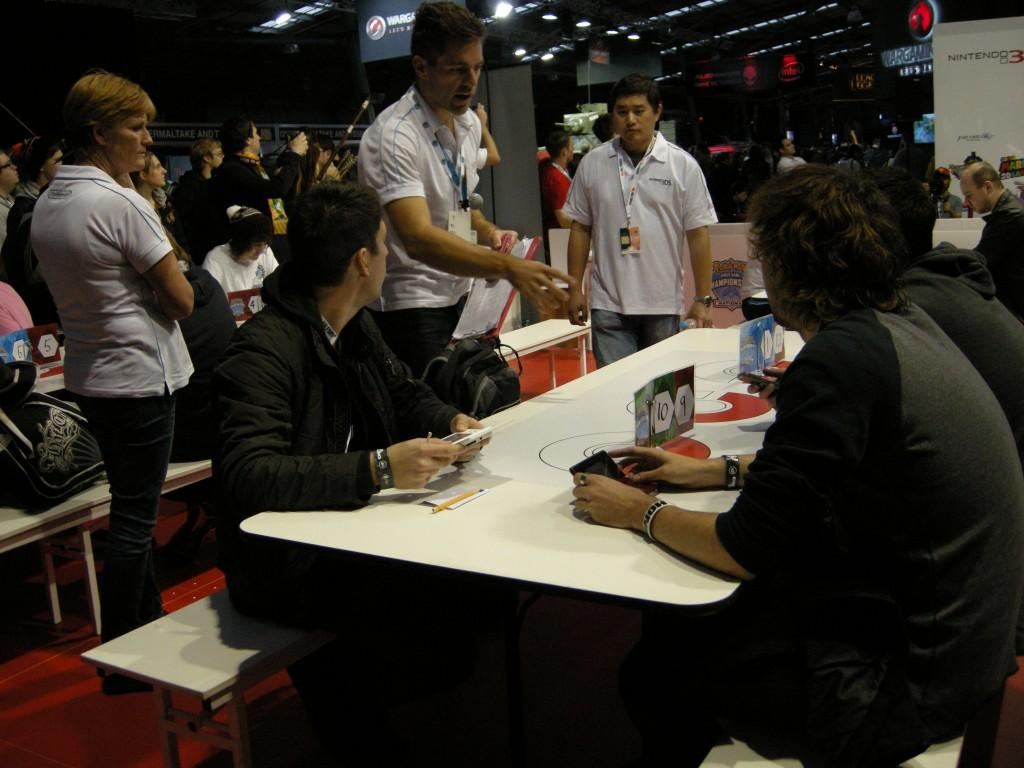face: (426, 35, 483, 115), (108, 110, 152, 171), (363, 217, 388, 299), (613, 97, 655, 144), (960, 171, 988, 213), (142, 154, 166, 185), (242, 236, 265, 260), (248, 128, 261, 154), (782, 139, 795, 153)
